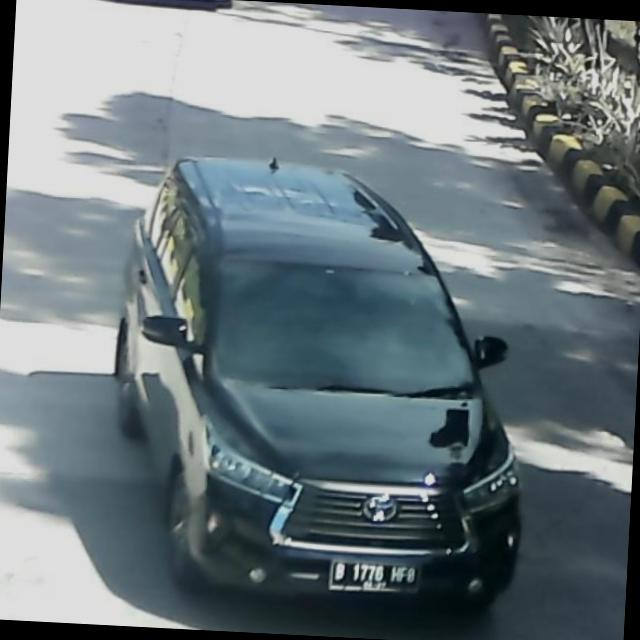plate: (326, 555, 426, 596)
